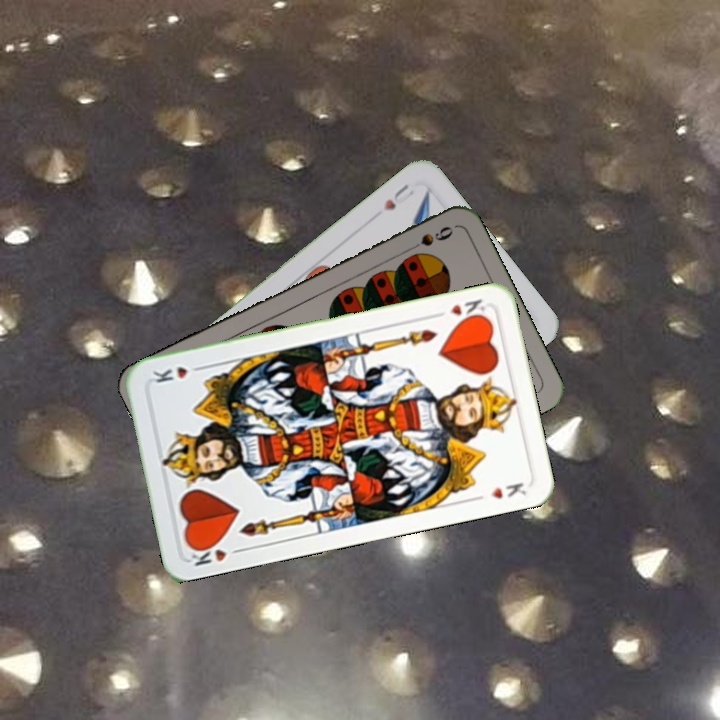HK: (187, 537, 246, 569), (431, 294, 488, 325)
HU: (379, 180, 417, 214)
S9: (401, 222, 456, 256)
